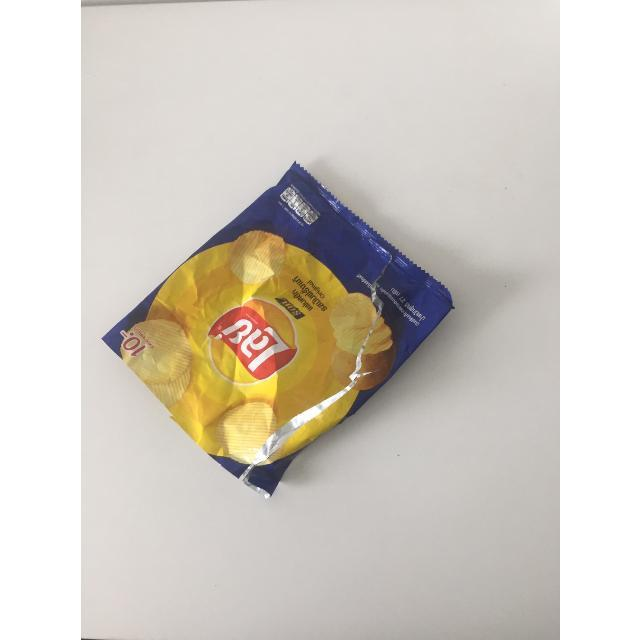Paquete de plastico: (102, 163, 455, 499)
